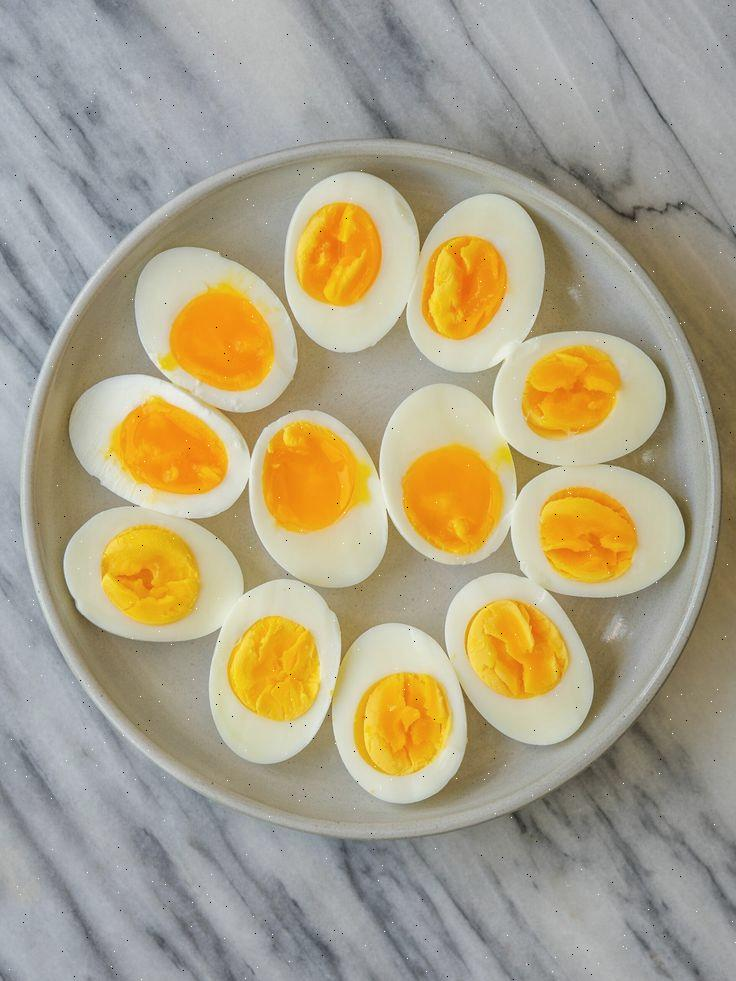eggs: (75, 163, 684, 809)
